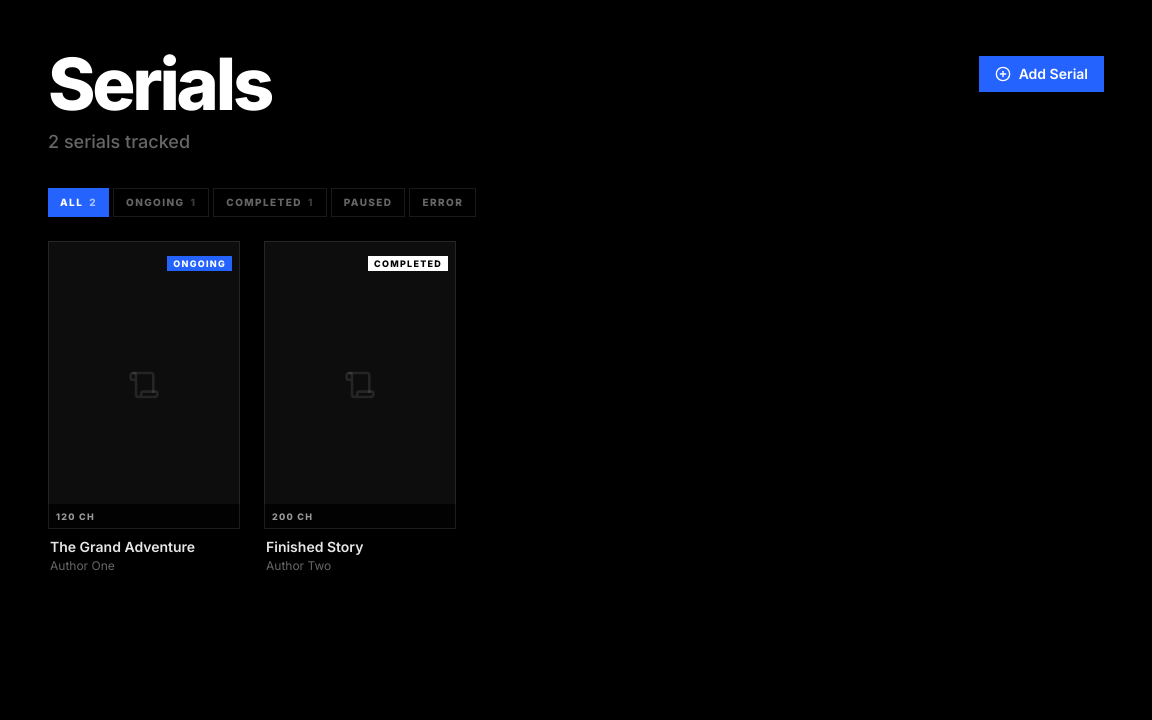
Scenario: Serials page › filters by status
Check: the text "The Grand Adventure" is shown, box [50,538,195,555]
Click the button with test id "filter-completed". click: [270, 202]
box: [213,188,327,217]
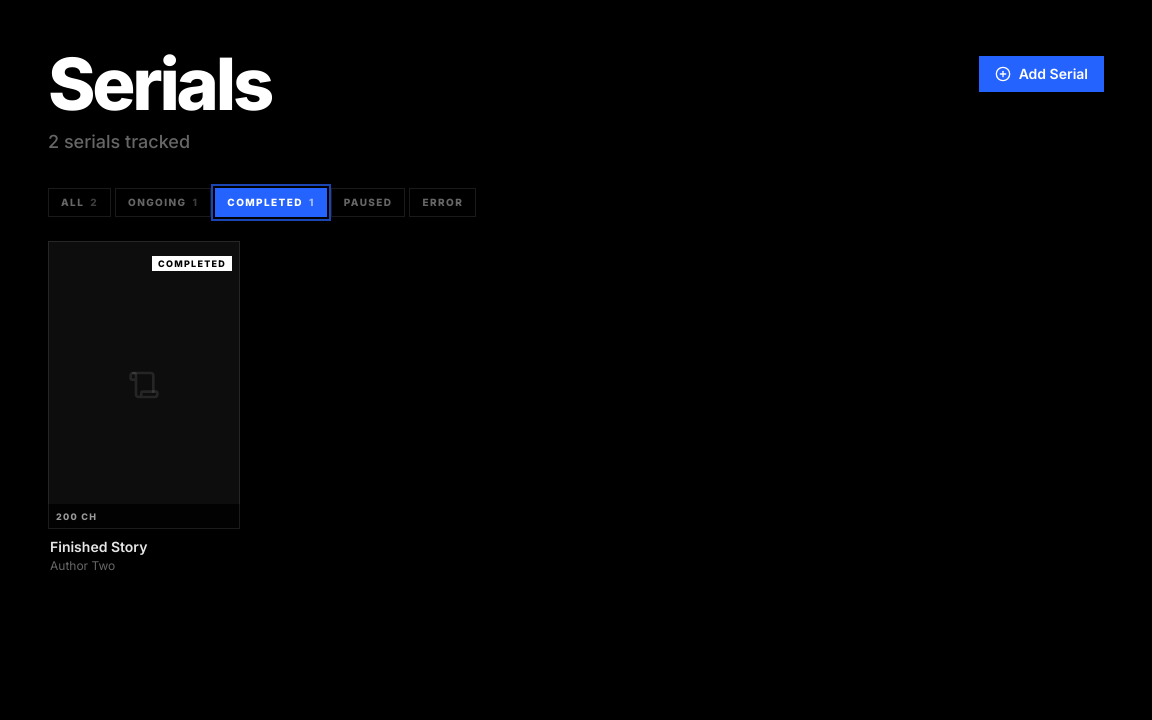
Check: the text "Finished Story" is shown, box [50,538,147,555]
Check: the link "The Grand Adventure" is gone
